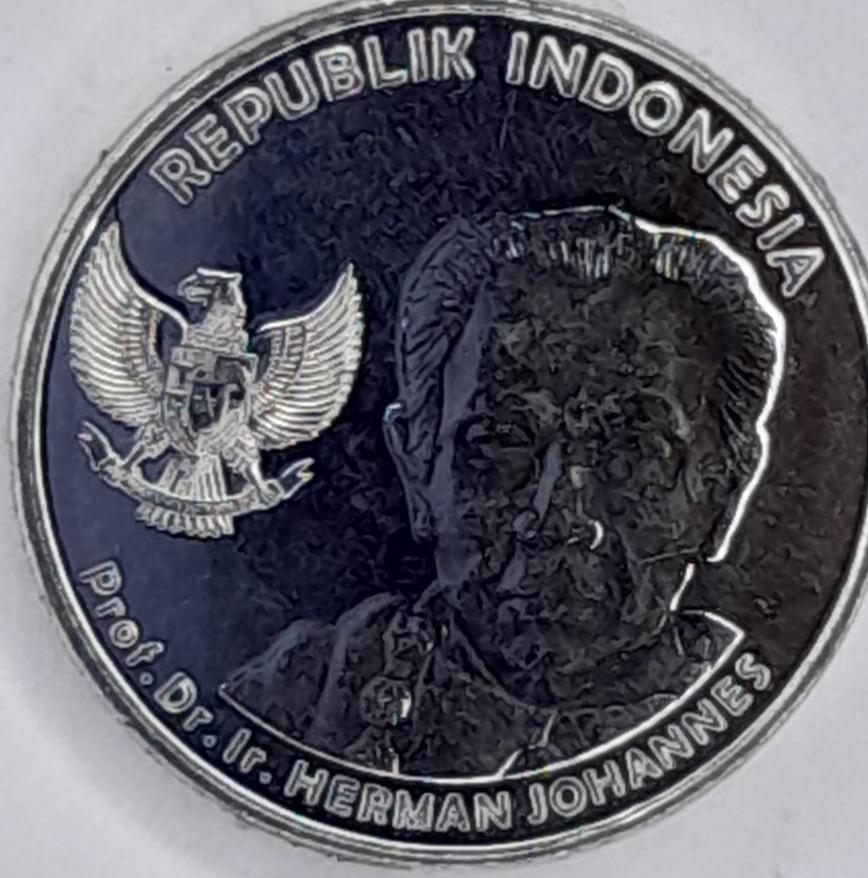coin_100_e2016: (5, 0, 867, 869)
